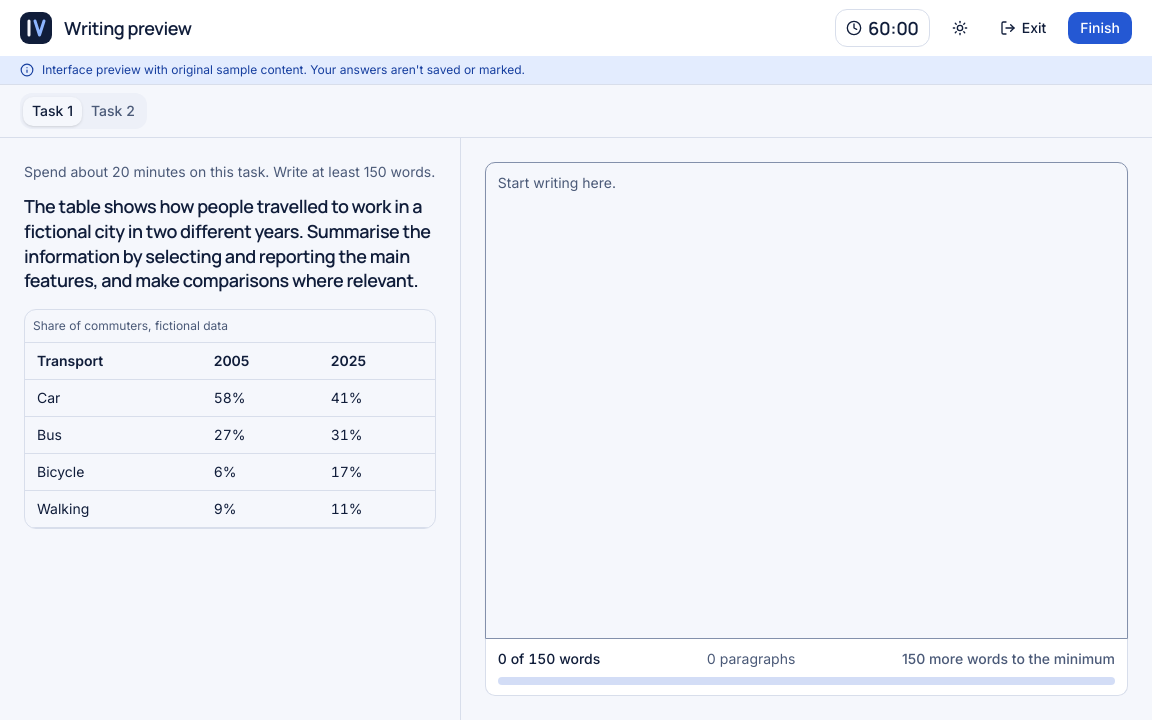
exam previews › counts words against each task's minimum and keeps text between tasks
In the text box named "Your answer for Task 1": (806, 400) top-left (485, 162), bottom-right (1128, 639), type "Cars declined over time."
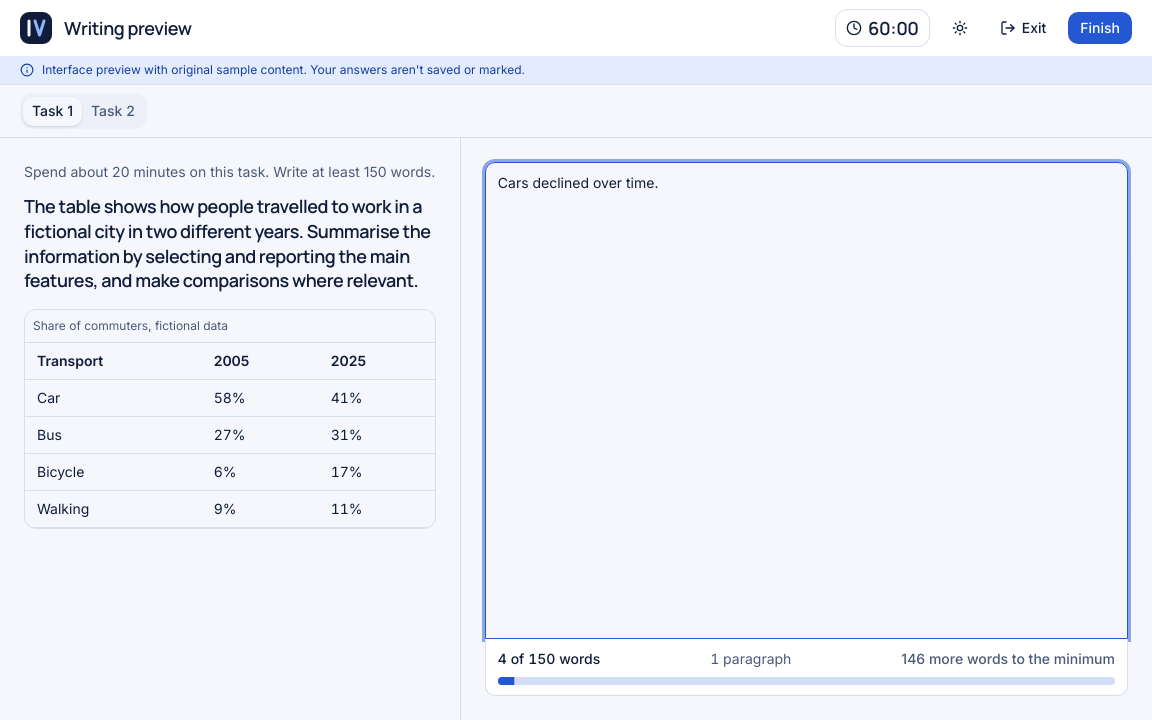
Expected: the text "4 of 150 words" is shown, top-left (498, 650), bottom-right (600, 667)
Expected: the text "146 more words to the minimum" is shown, top-left (901, 649), bottom-right (1115, 669)
Click the tab "Task 2": (113, 111) top-left (82, 96), bottom-right (144, 126)
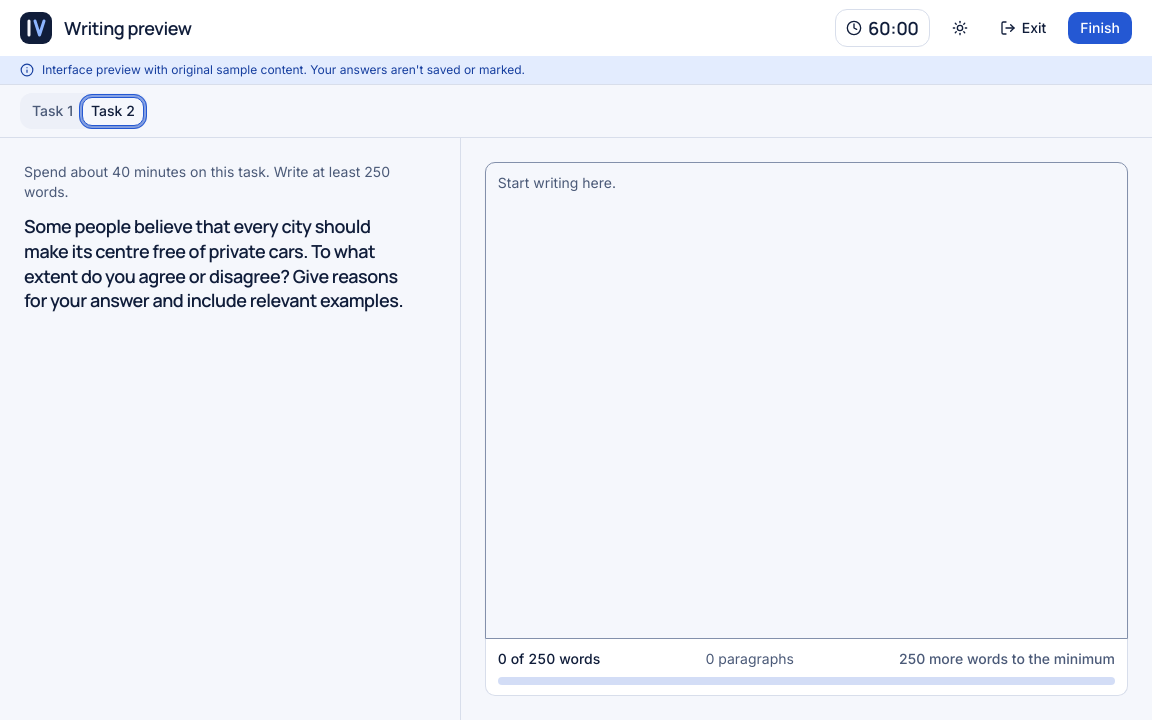
Expected: the text "0 of 250 words" is shown, top-left (498, 650), bottom-right (600, 667)
Click the tab "Task 1": (52, 111) top-left (23, 96), bottom-right (82, 126)
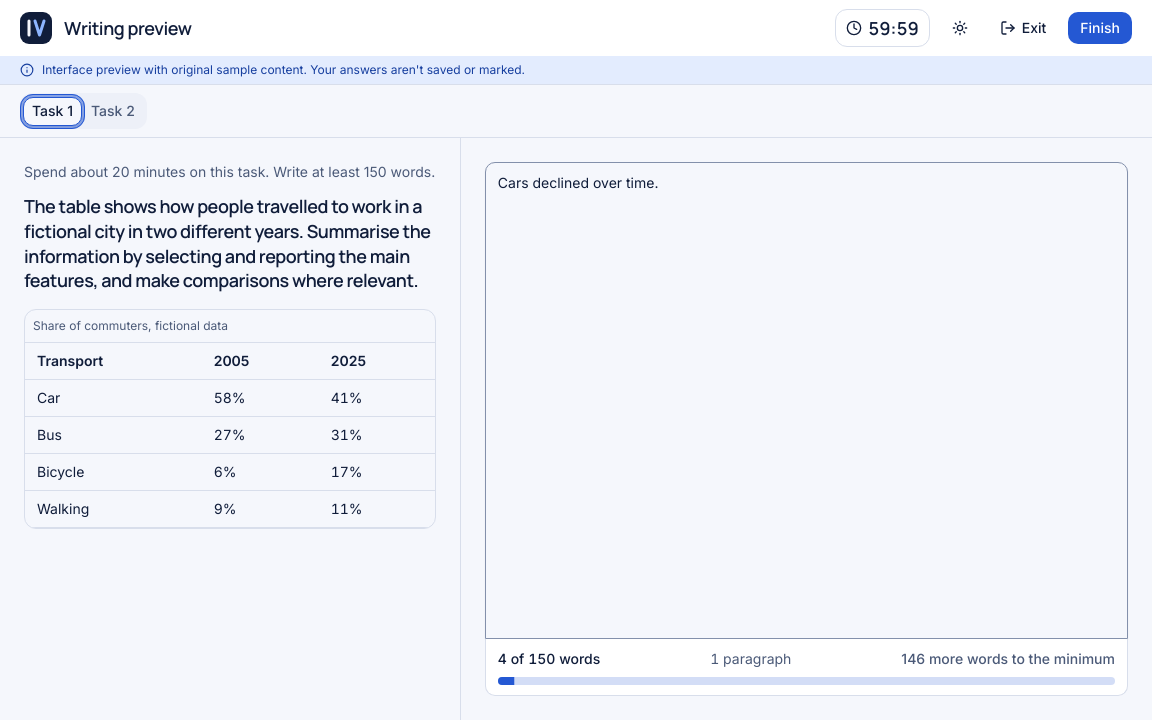
Expected: the text box named "Your answer for Task 1" holds "Cars declined over time.", top-left (485, 162), bottom-right (1128, 639)
